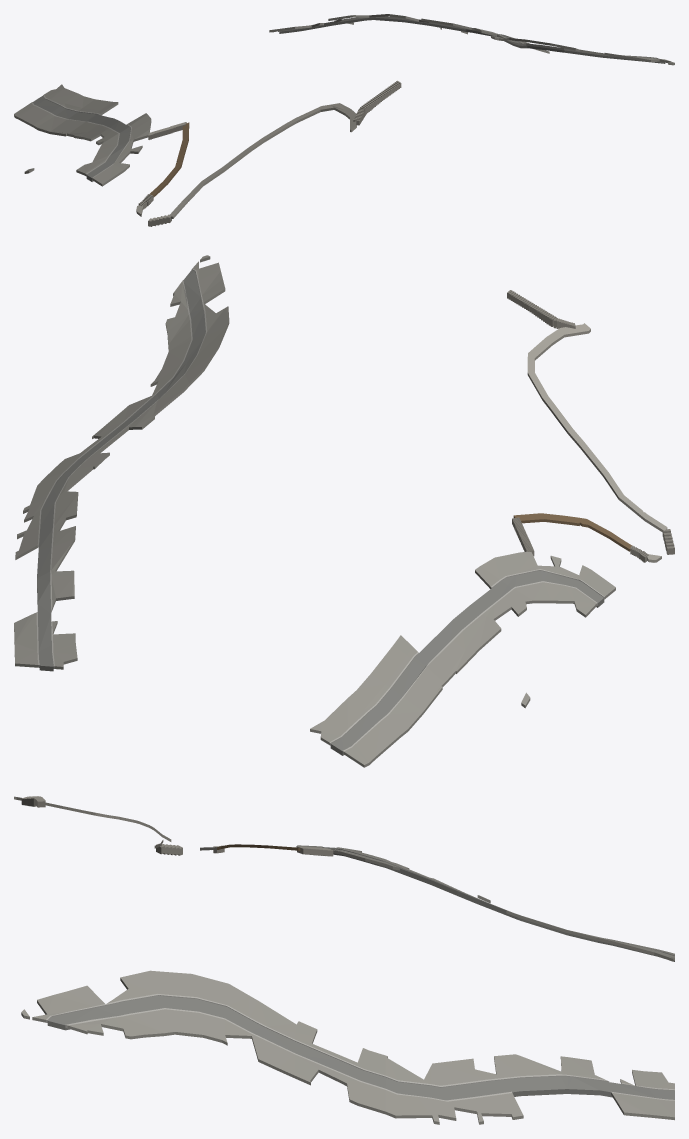
3 renders of one model, top to bottom at view 1: azimuth 30°, elevation 25°; view 2: azimuth 150°, elevation 25°; view 3: azimuth 270°, elevation 25°, orthographic. The views are drawn at different scales.
Size of the model in its own units: 147 by 57.13 by 146.
